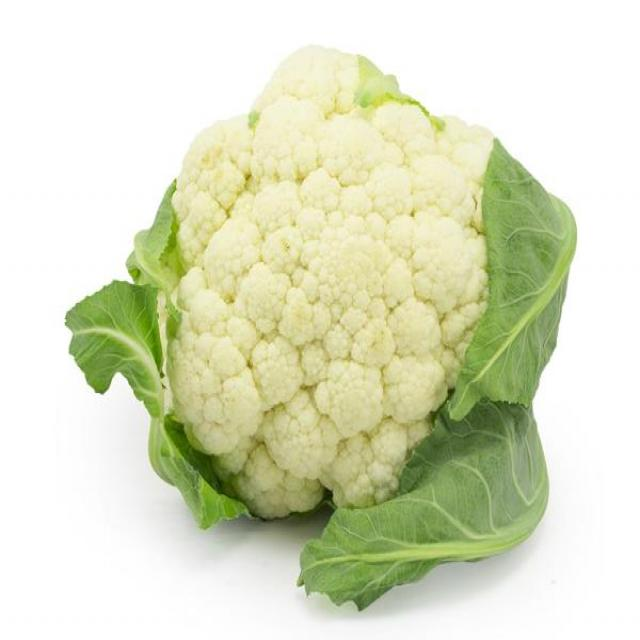Cauliflower head: (68, 7, 623, 576)
